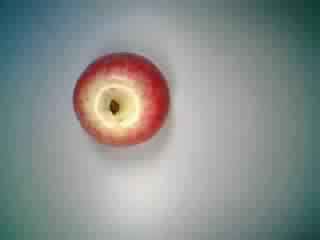apple: (71, 46, 175, 150)
